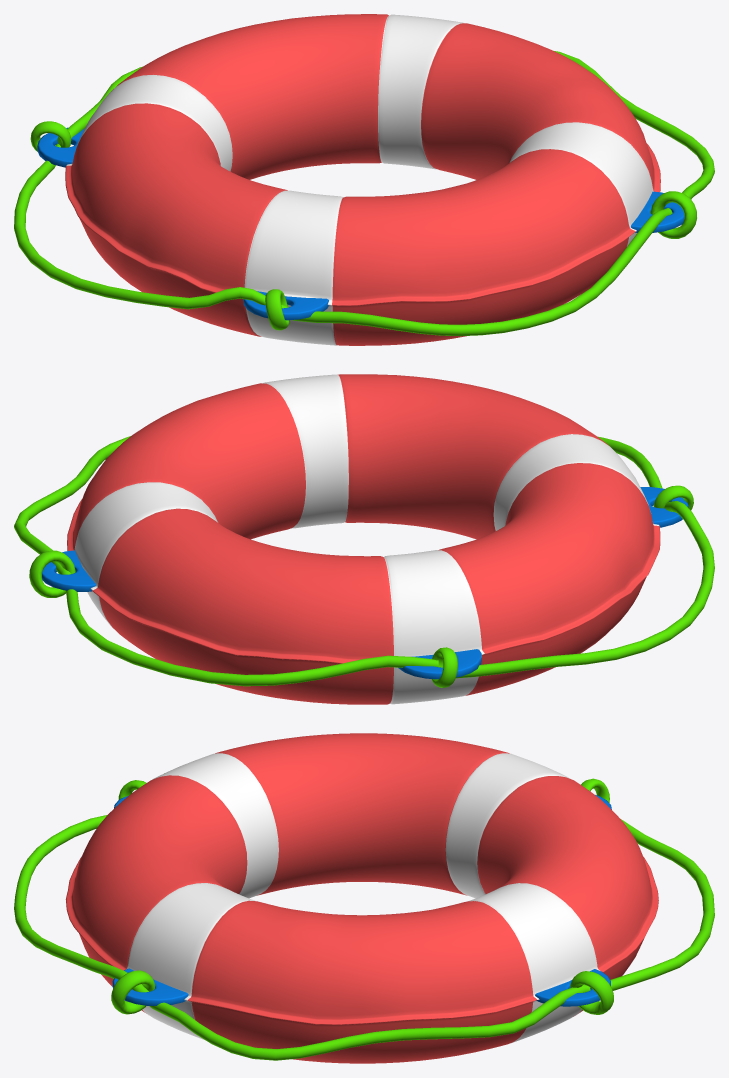
The model's file is lifesaver.fbx.
The picture shows the model from 3 angles, top to bottom: view 1: azimuth 30°, elevation 25°; view 2: azimuth 150°, elevation 25°; view 3: azimuth 270°, elevation 25°; orthographic projection.
Parts seen in each view (by area): view 1: Seagull4:Group2, pCylinder7, pCylinder5; view 2: Seagull4:Group2, pCylinder7, pCylinder5; view 3: Seagull4:Group2, pCylinder7, pCylinder5.
Part boxes in pixels (box(x1,y1,x2,y2)): Seagull4:Group2: box(65, 14, 660, 345); pCylinder7: box(14, 51, 714, 336); pCylinder5: box(37, 127, 684, 320); Seagull4:Group2: box(67, 374, 660, 704); pCylinder7: box(14, 436, 714, 687); pCylinder5: box(42, 487, 688, 679); Seagull4:Group2: box(65, 733, 658, 1063); pCylinder7: box(14, 773, 714, 1060); pCylinder5: box(112, 795, 611, 1006).
Bounding box in the file's own units: 6.77 × 1.42 × 6.63.
